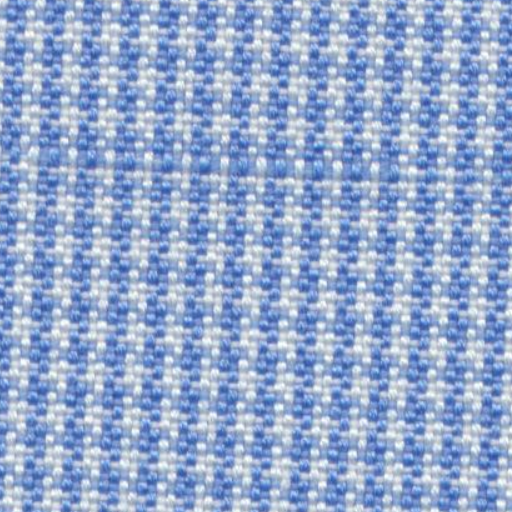TuoSha: (12, 119, 489, 218)
